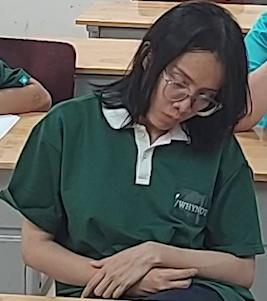Sleeping: (23, 7, 249, 299)
